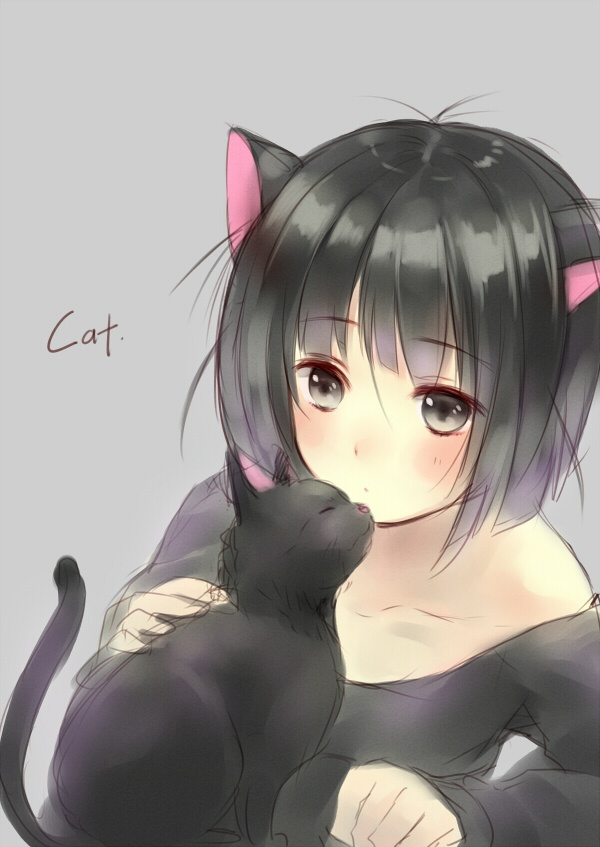纸片人正脸: (199, 114, 595, 538)
